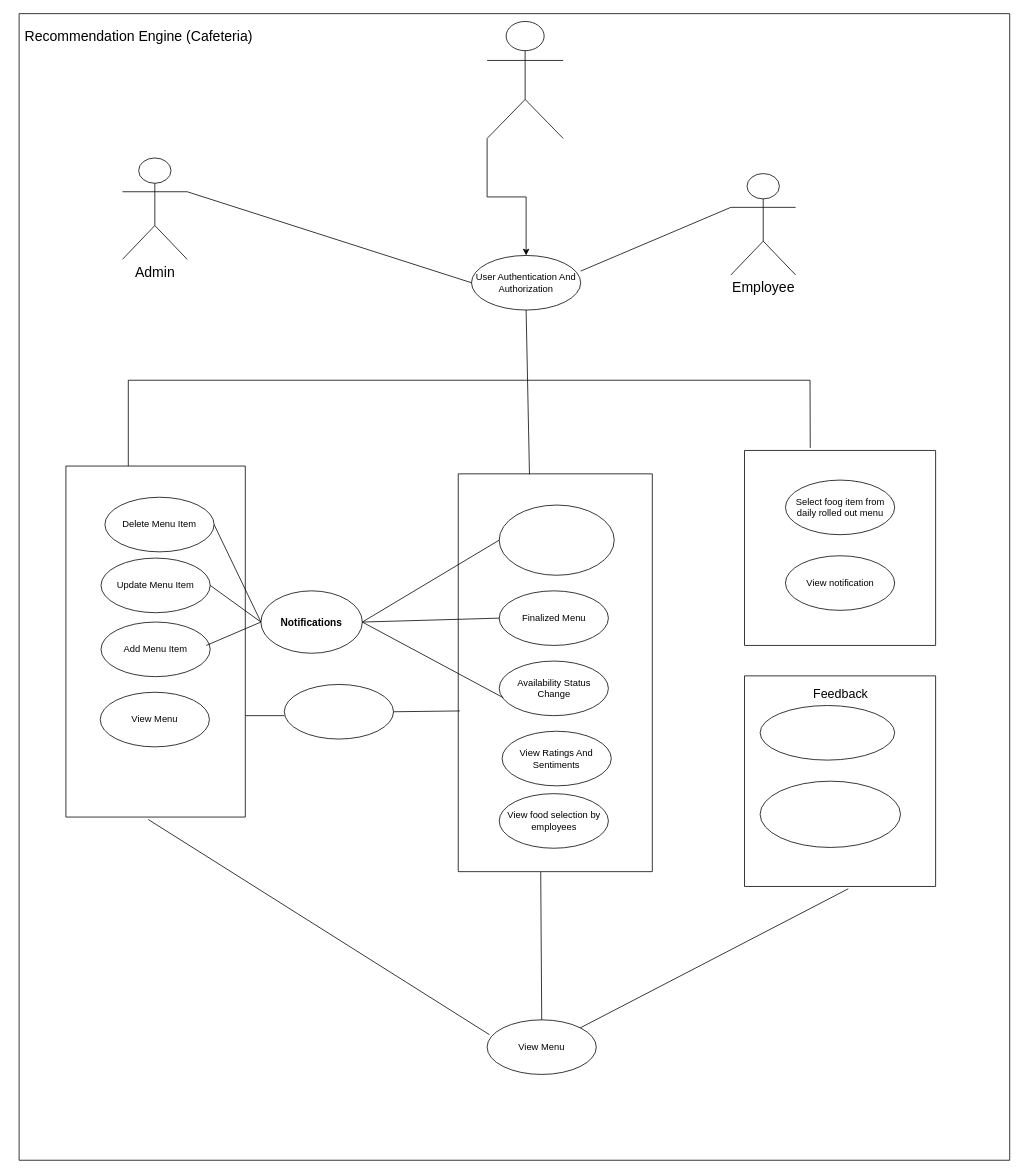
This 1023x1174 diagram has some shape labels left out. The centre of each missing label's shape, as x and y in pixels:
Chef: point (524, 79)
Generate Monthly user feedback report: point (339, 711)
Give feedback(Rating,comment): point (830, 813)
Roll out recommended menu: point (556, 539)
View Feedback: point (827, 732)
